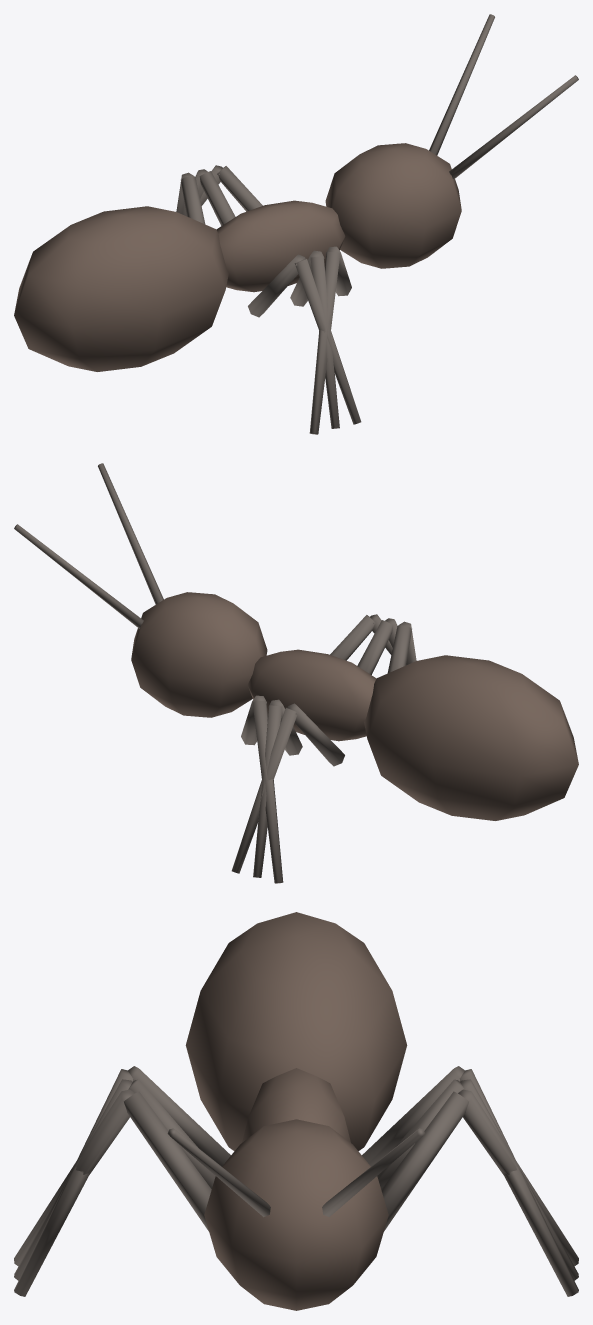
The model's file is taipei-carpenter-ant.glb.
3 renders of one model, top to bottom at view 1: azimuth 30°, elevation 25°; view 2: azimuth 150°, elevation 25°; view 3: azimuth 270°, elevation 25°, orthographic. The views are drawn at different scales.
Parts seen in each view (by area): view 1: e; view 2: e; view 3: e.
Boxes of the visible parts, x1,y1,x2,y2 form: e: (14,14,578,434); e: (14,463,578,883); e: (14,912,578,1310).
Bounding box in the file's own units: 0.3372 × 0.1517 × 0.2143.
